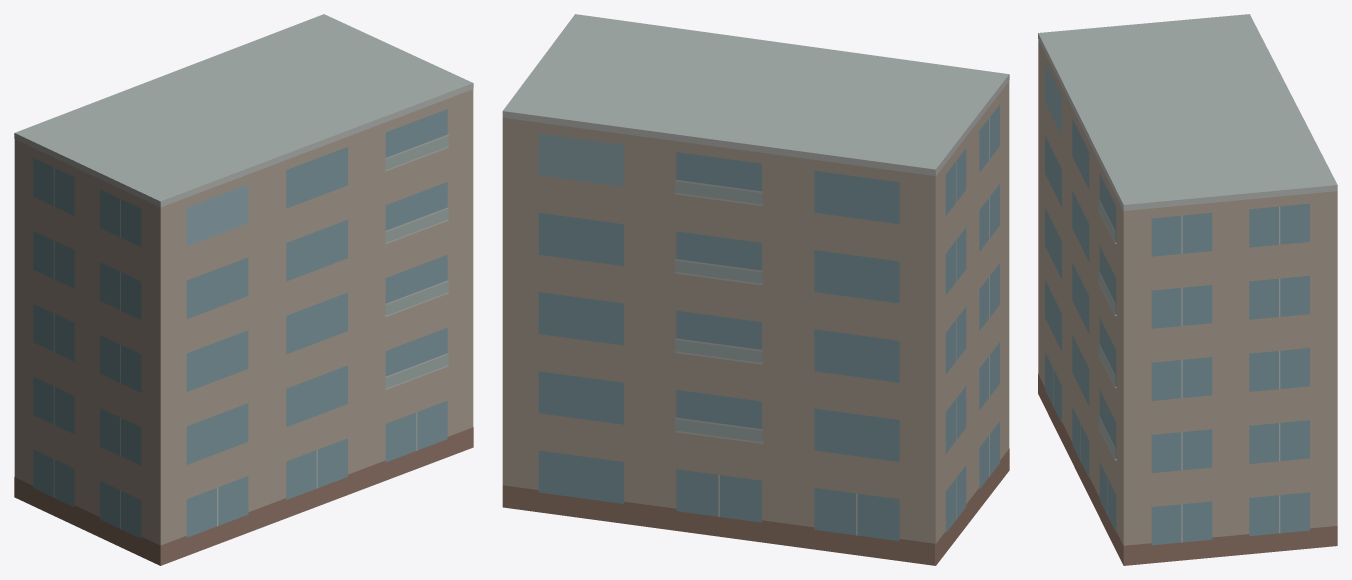
File: survey-upis-32872124.glb
The picture shows the model from 3 angles, left to right: view 1: azimuth 30°, elevation 25°; view 2: azimuth 150°, elevation 25°; view 3: azimuth 270°, elevation 25°; orthographic projection. The views are drawn at different scales.
Visible parts, largest first — view 1: survey-upis-32872124.tmp; view 2: survey-upis-32872124.tmp; view 3: survey-upis-32872124.tmp.
Boxes of the visible parts, left/top/right/bottom form: survey-upis-32872124.tmp: left=14, top=14, right=473, bottom=565; survey-upis-32872124.tmp: left=502, top=14, right=1009, bottom=565; survey-upis-32872124.tmp: left=1038, top=14, right=1337, bottom=565.
Size of the model in its own units: 16.58 by 14.6 by 10.99.
